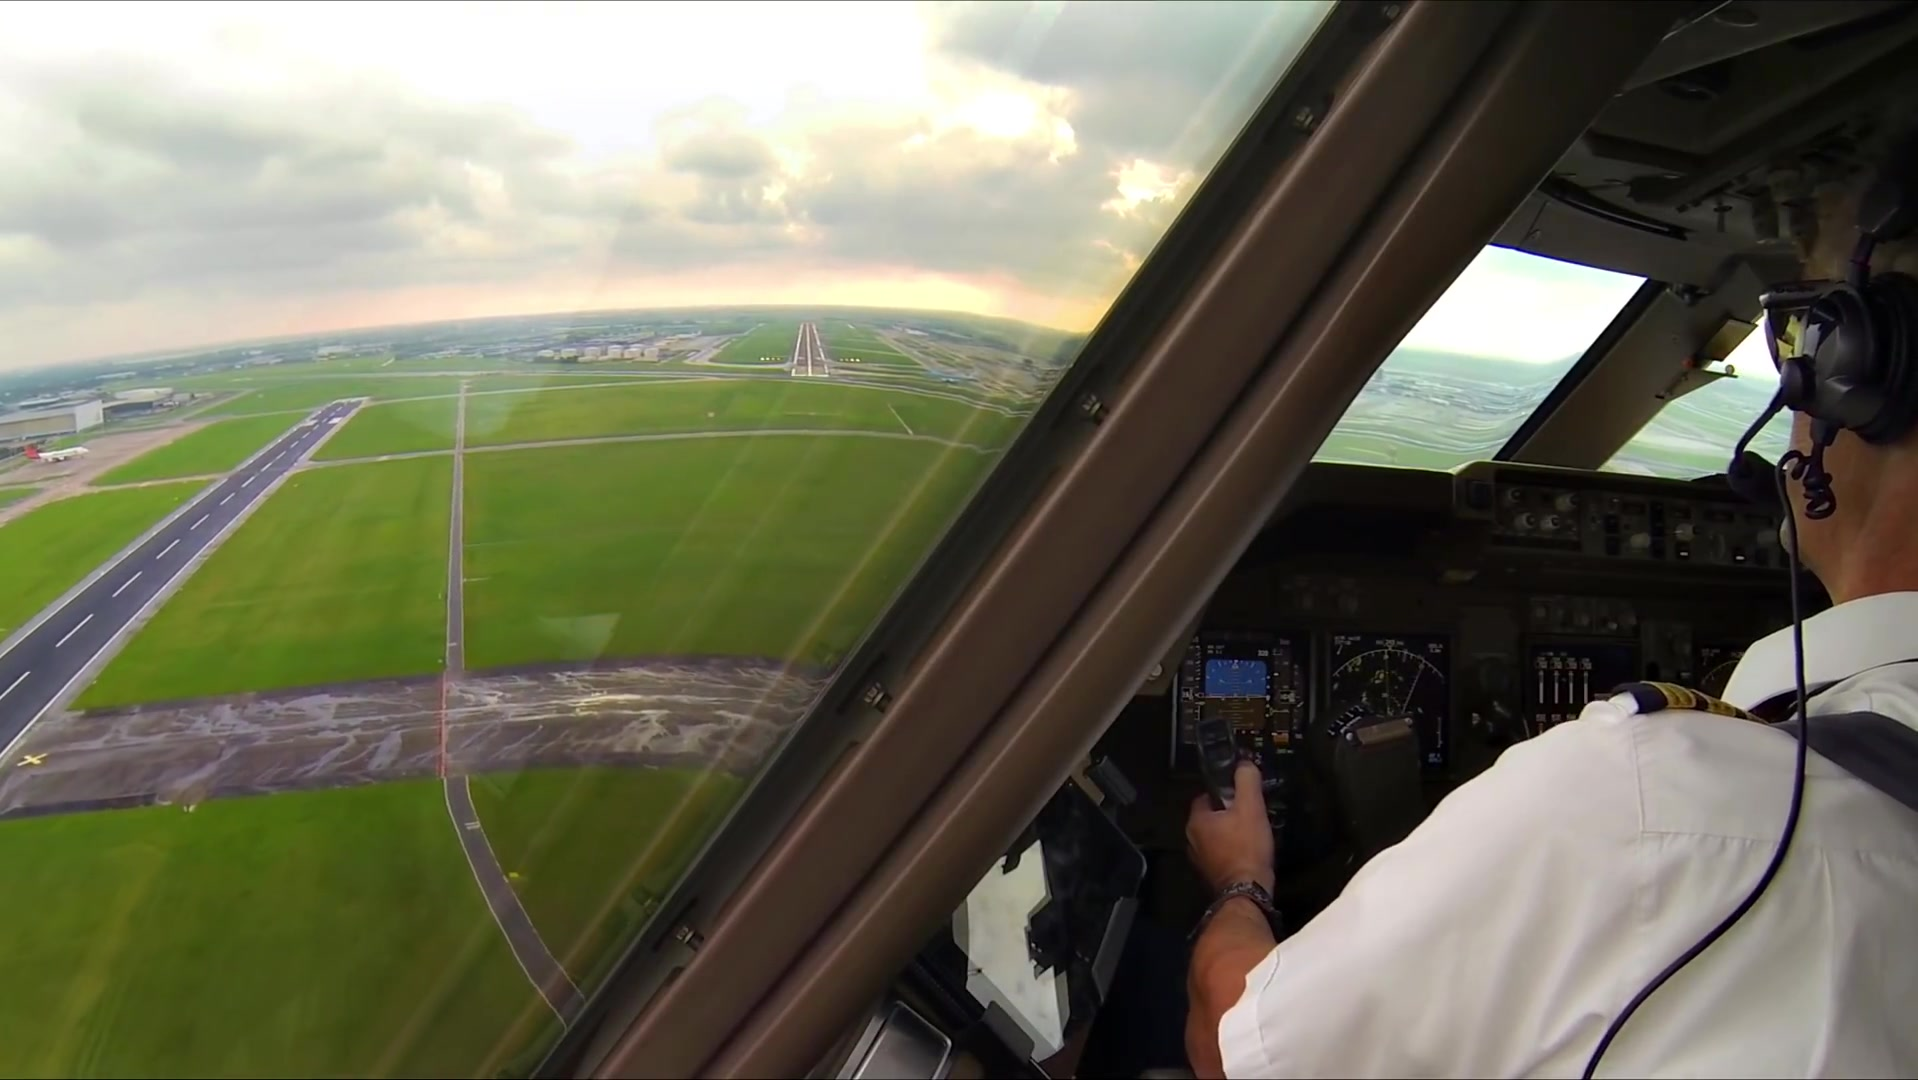runway: (790, 321, 831, 385)
